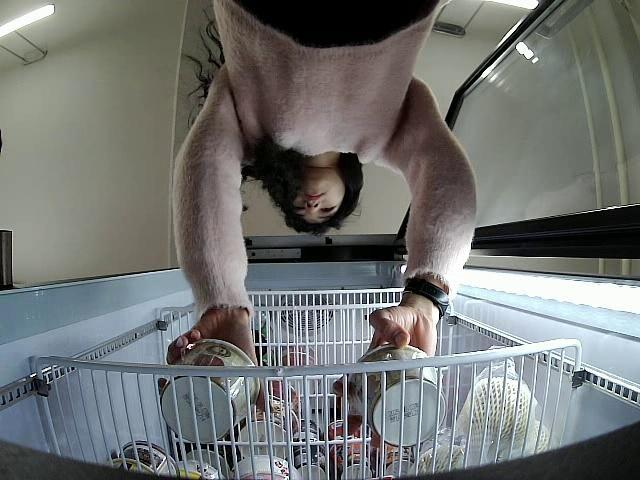04_chapagetti_S: (348, 344, 448, 448), (162, 336, 258, 441)
